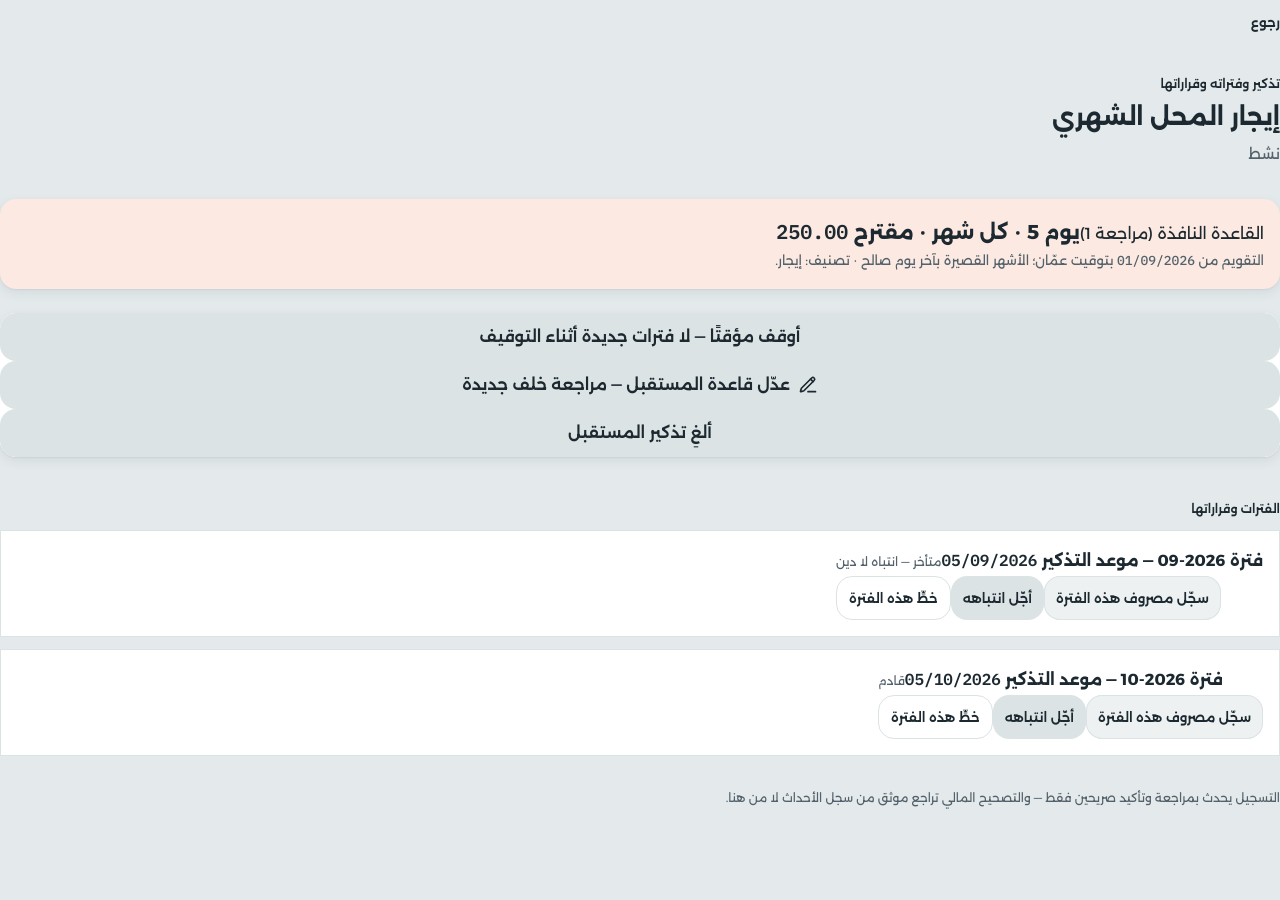
OPS-003 — تفصيل التذكير وفتراته (DOM) › التأكيد الصريح يعرض «تم تسجيل المصروف» بحدث واحد، والمفتاح الحتمي يمنع الثانية
Click the button "سجّل مصروف هذه الفترة" below "2026-09" at (1133,598), box [1044,576,1221,620]
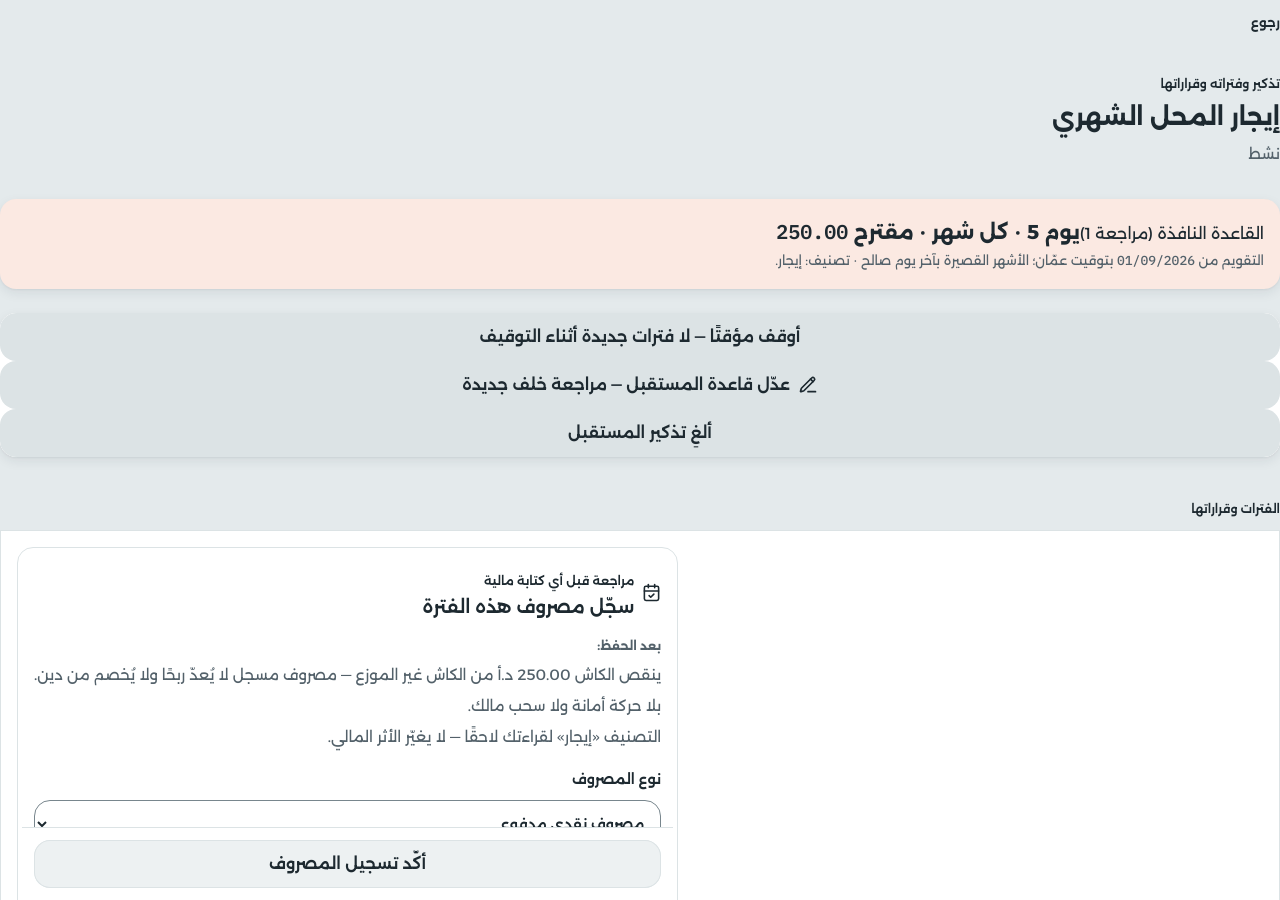
Click the button "أكّد تسجيل المصروف" at (348,864), box [34,840,661,888]
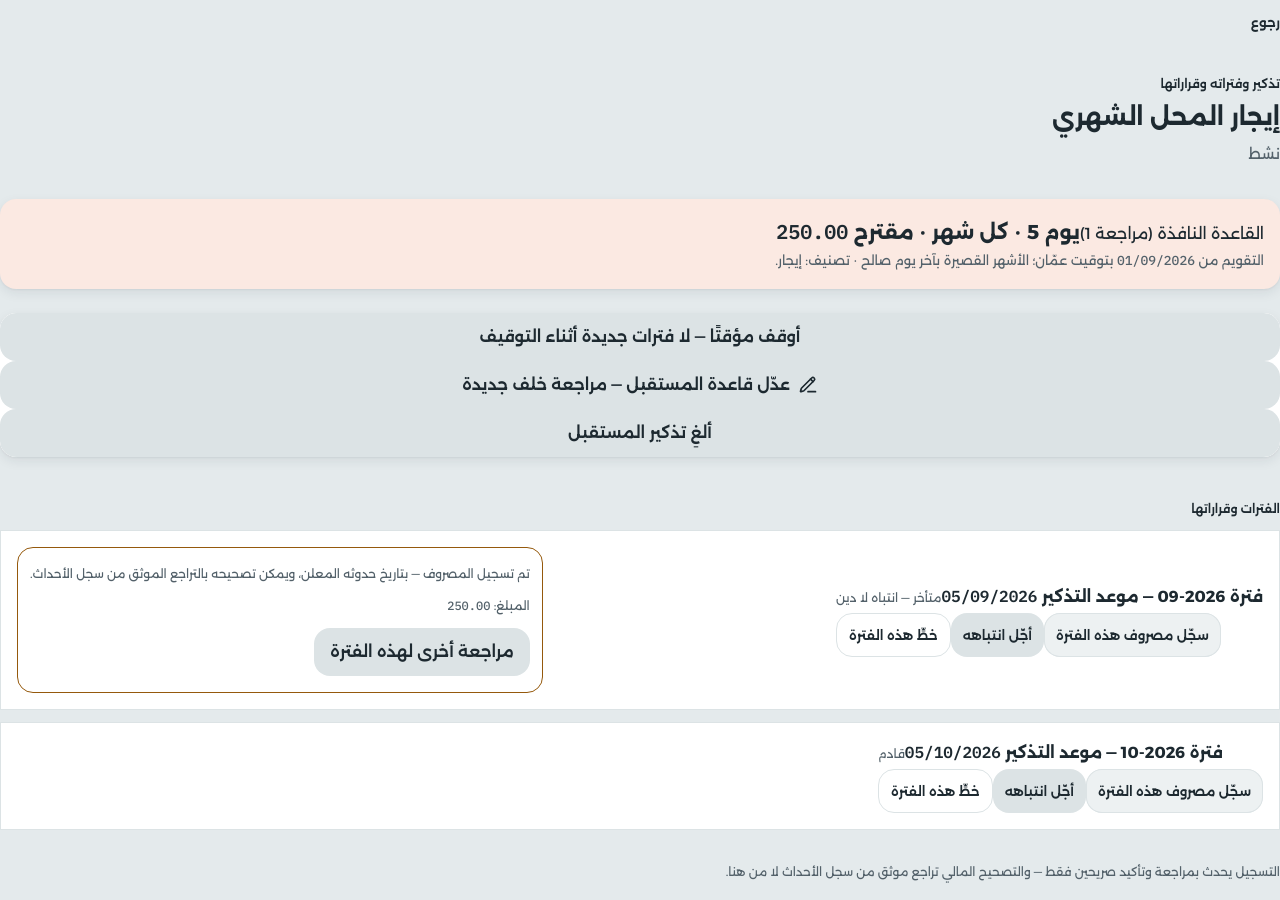
Expected: the text "تم تسجيل المصروف — بتاريخ حدوثه" is shown, [30,566,530,581]
